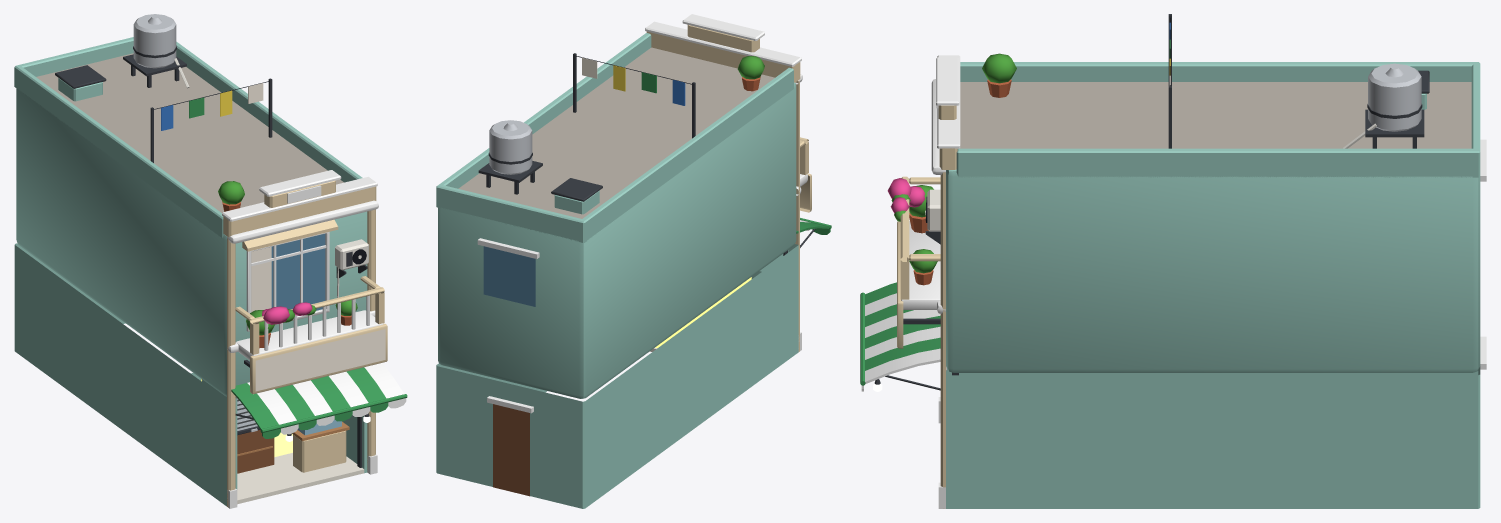
File: bld_shophouse_2f.glb
The picture shows the model from 3 angles, left to right: view 1: azimuth 30°, elevation 25°; view 2: azimuth 150°, elevation 25°; view 3: azimuth 270°, elevation 25°; orthographic projection. The views are drawn at different scales.
Visible parts, largest first — view 1: body, signboard; view 2: body; view 3: body.
Boxes of the visible parts, x1,y1,x2,y2 form: body: (14,14,407,508); signboard: (255,329,385,391); body: (436,14,831,508); body: (860,14,1486,508).
Bounding box in the file's own units: 4 × 8.6 × 11.72.
